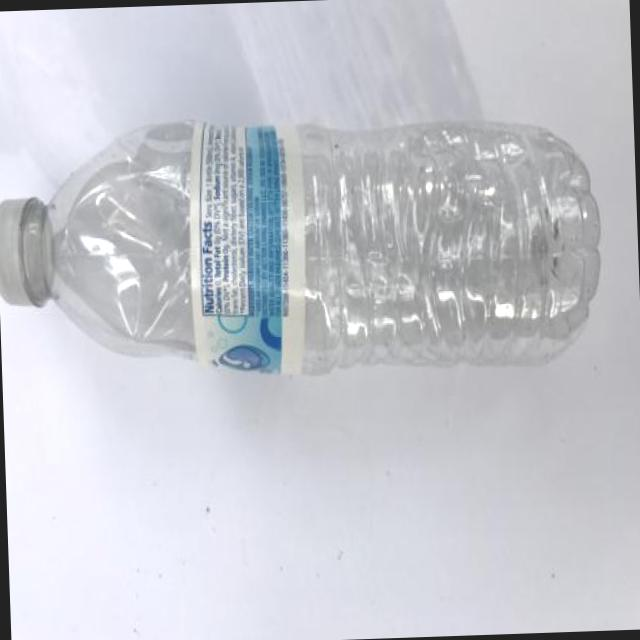Recycle: (0, 65, 607, 392)
